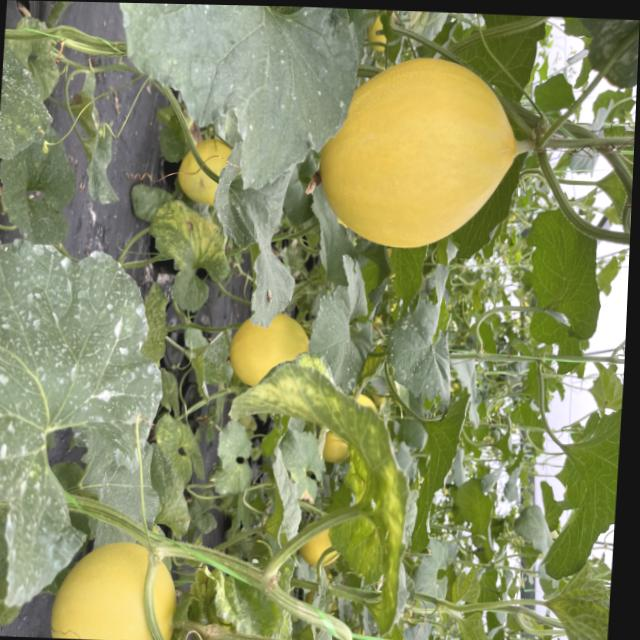downy mildew: (210, 347, 423, 633), (551, 563, 612, 640)
healthy: (509, 211, 606, 378)
powdery mildew: (0, 235, 162, 612), (101, 2, 368, 179), (0, 54, 65, 178)
